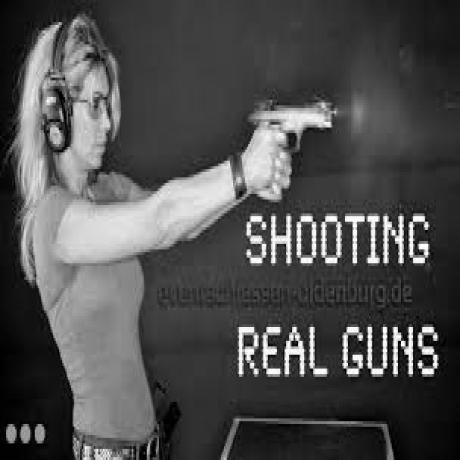Guns: (250, 90, 335, 163), (150, 378, 186, 453)
